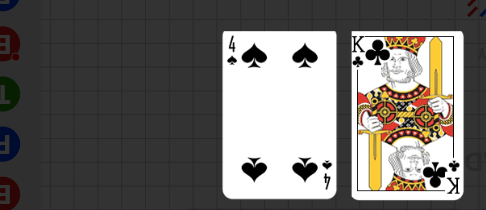4S: (320, 157, 333, 191), (226, 34, 239, 67)
